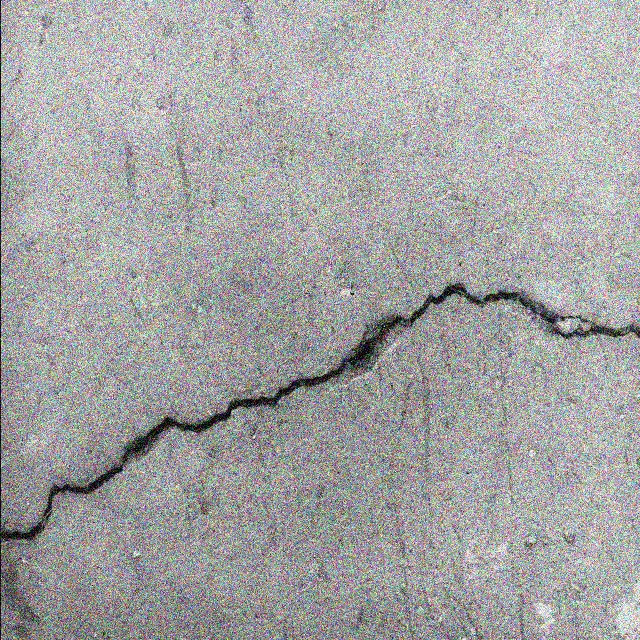SurfaceCrack: (0, 255, 636, 573)
